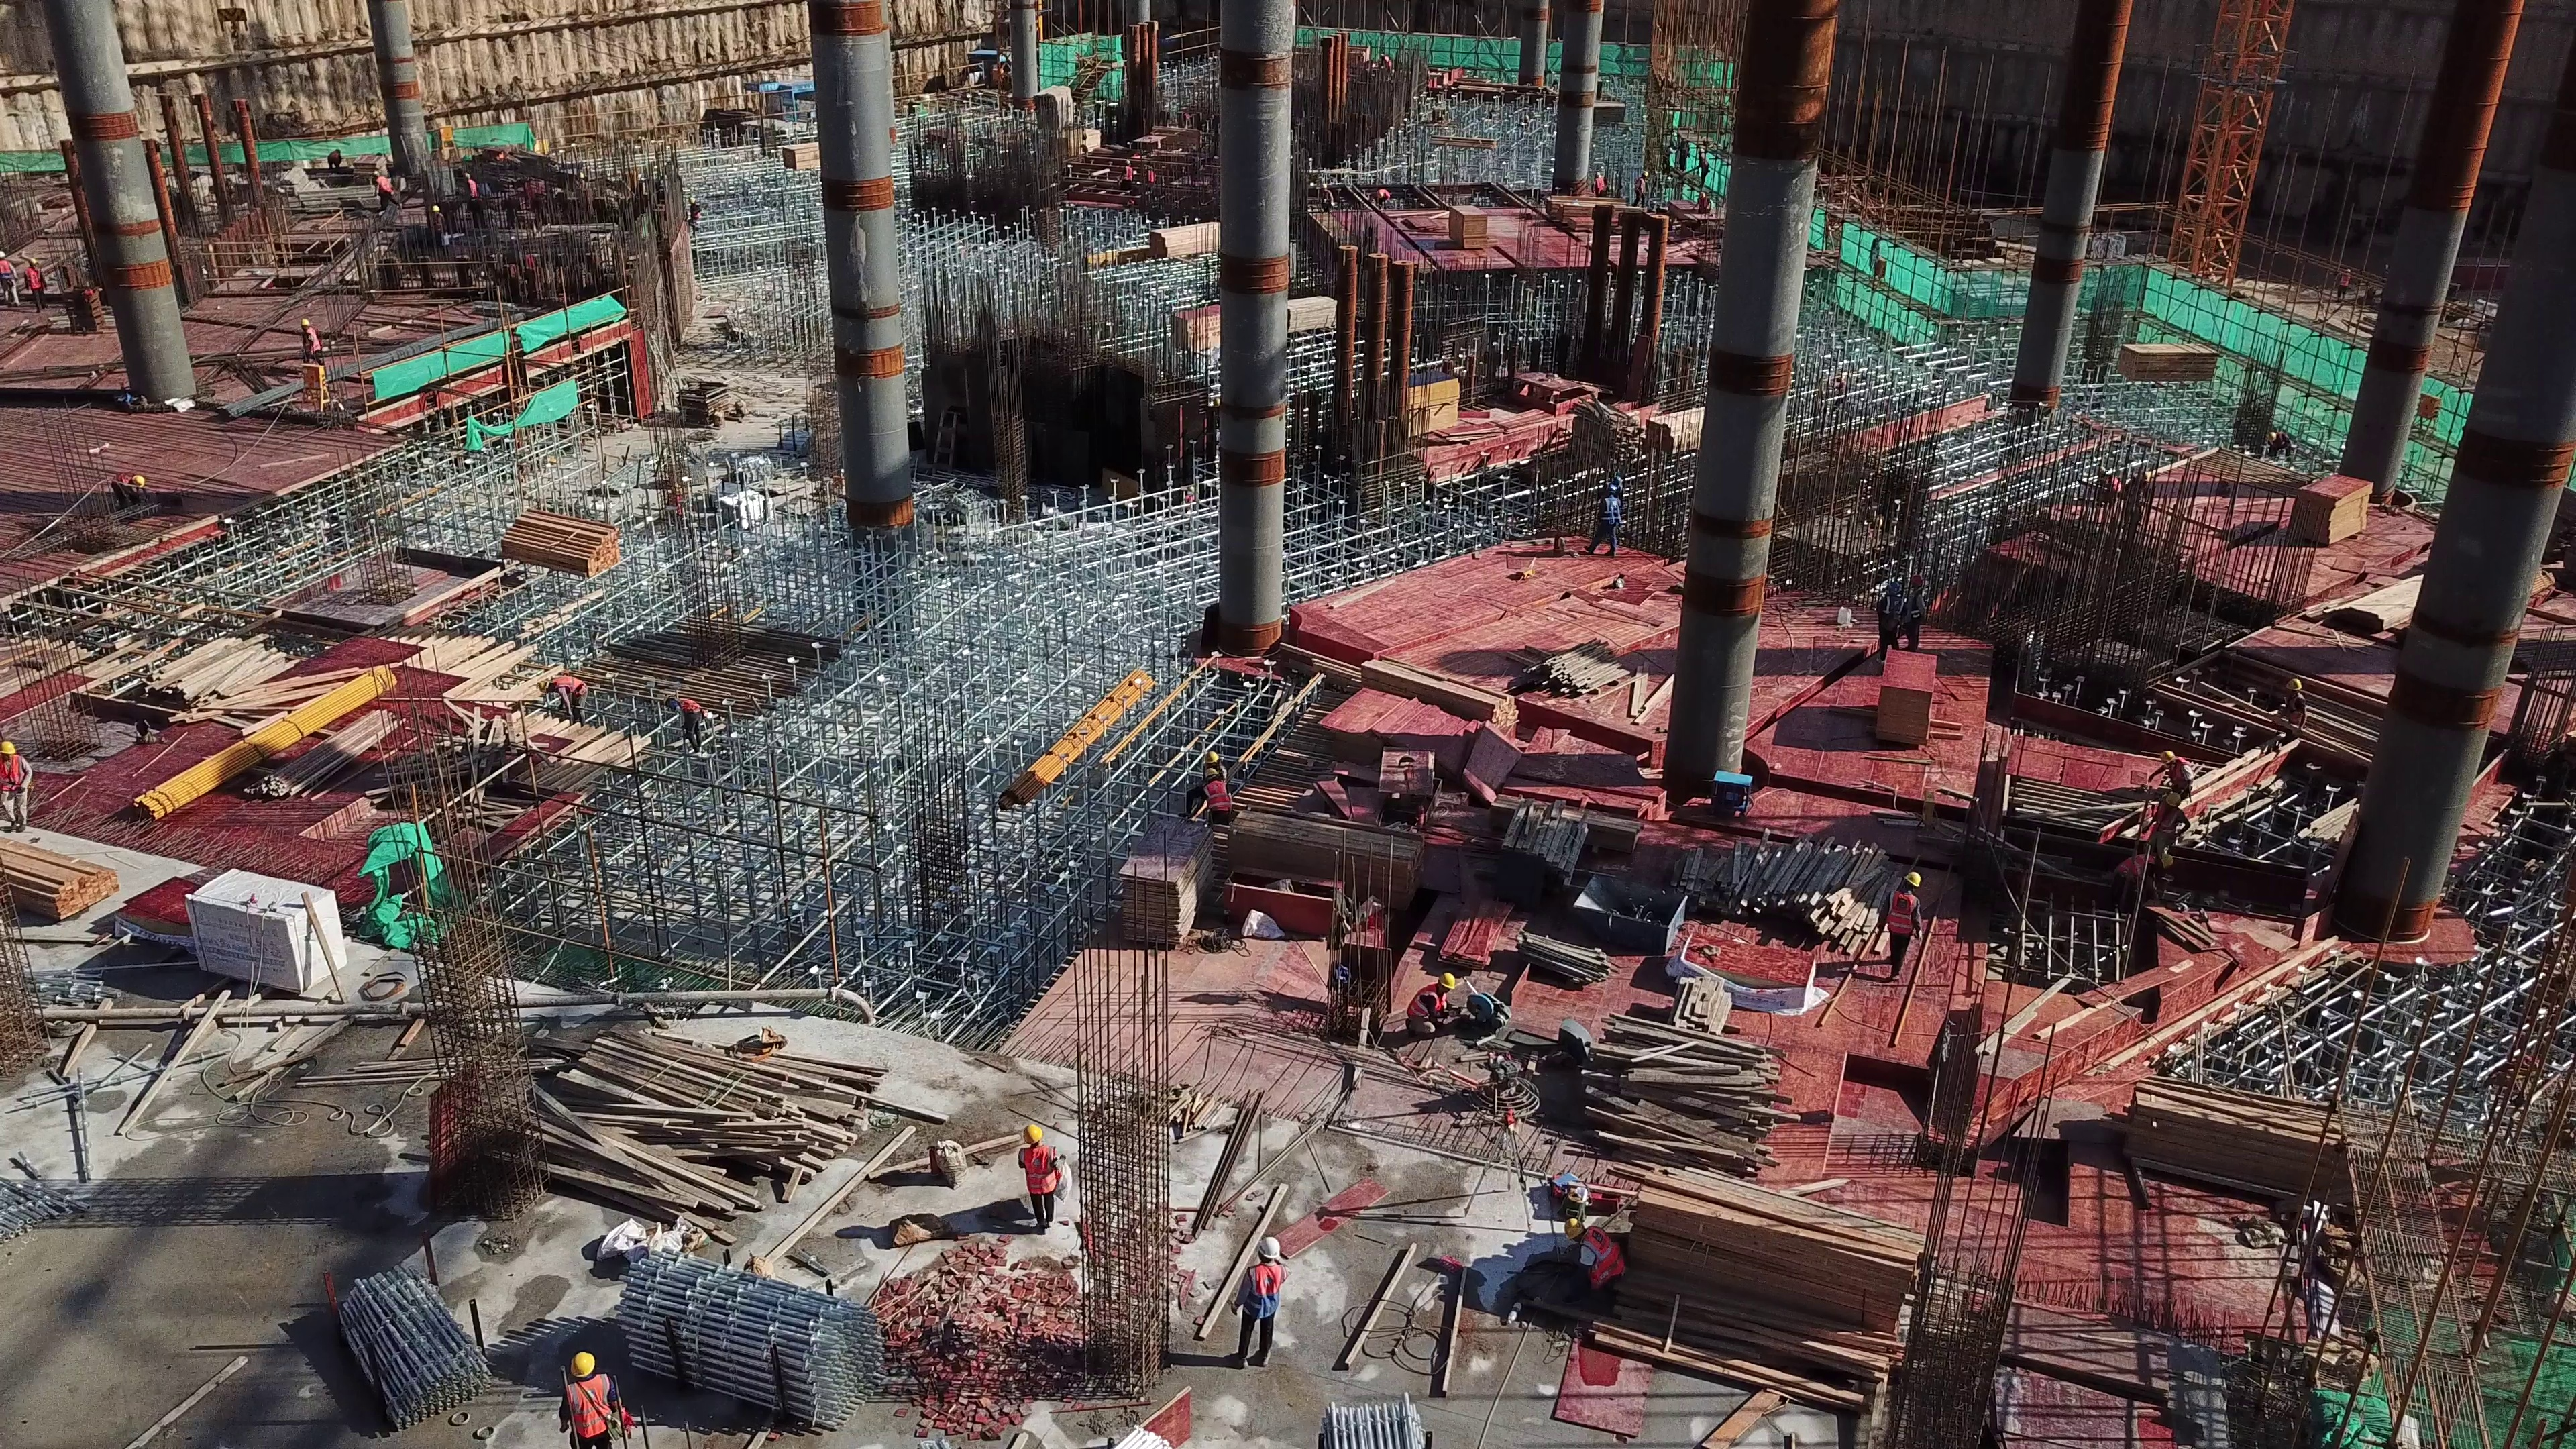board: (1243, 804, 1417, 883), (1338, 691, 1481, 784), (1115, 823, 1205, 948), (1859, 646, 1929, 754), (2287, 464, 2371, 549), (1165, 305, 1218, 368), (1447, 201, 1488, 255)
cutter: (1460, 980, 1514, 1032)
helmet: (568, 1354, 598, 1378), (1248, 1237, 1282, 1257), (1016, 1126, 1040, 1143), (1562, 1216, 1580, 1240), (1898, 871, 1923, 890), (2155, 848, 2172, 867), (1439, 973, 1456, 989), (1, 741, 18, 755), (1202, 751, 1220, 765), (1202, 767, 1218, 775)
person: (1232, 1237, 1285, 1375), (555, 1352, 621, 1449), (1562, 1216, 1624, 1316), (1881, 870, 1928, 981), (1012, 1124, 1064, 1226), (1402, 973, 1454, 1038), (2107, 851, 2177, 901), (1, 739, 33, 834), (2143, 794, 2184, 860), (664, 694, 705, 756), (543, 671, 589, 728), (1875, 580, 1901, 664), (2157, 745, 2192, 807), (1902, 572, 1927, 650), (1595, 487, 1619, 556), (2279, 679, 2306, 737), (1201, 768, 1230, 821), (298, 317, 320, 372), (370, 171, 398, 216), (682, 195, 704, 235)
scaffold: (597, 1250, 893, 1440), (337, 1266, 497, 1421), (1304, 1393, 1426, 1449)
vest: (565, 1377, 613, 1443), (1578, 1225, 1621, 1288), (1246, 1266, 1284, 1328), (1879, 892, 1921, 947), (1020, 1142, 1057, 1200), (674, 694, 727, 727), (1403, 986, 1445, 1021), (1, 758, 28, 792), (2116, 853, 2149, 880), (1202, 782, 1229, 812), (549, 674, 591, 693), (1596, 494, 1618, 525)
wood: (1629, 1183, 1922, 1388), (550, 1037, 854, 1185), (2114, 1079, 2347, 1192), (1700, 851, 1901, 965), (1579, 1037, 1752, 1151), (1538, 641, 1658, 734), (1493, 797, 1601, 896), (161, 635, 290, 711), (508, 519, 616, 581), (1650, 413, 1704, 460), (1155, 225, 1223, 258)
